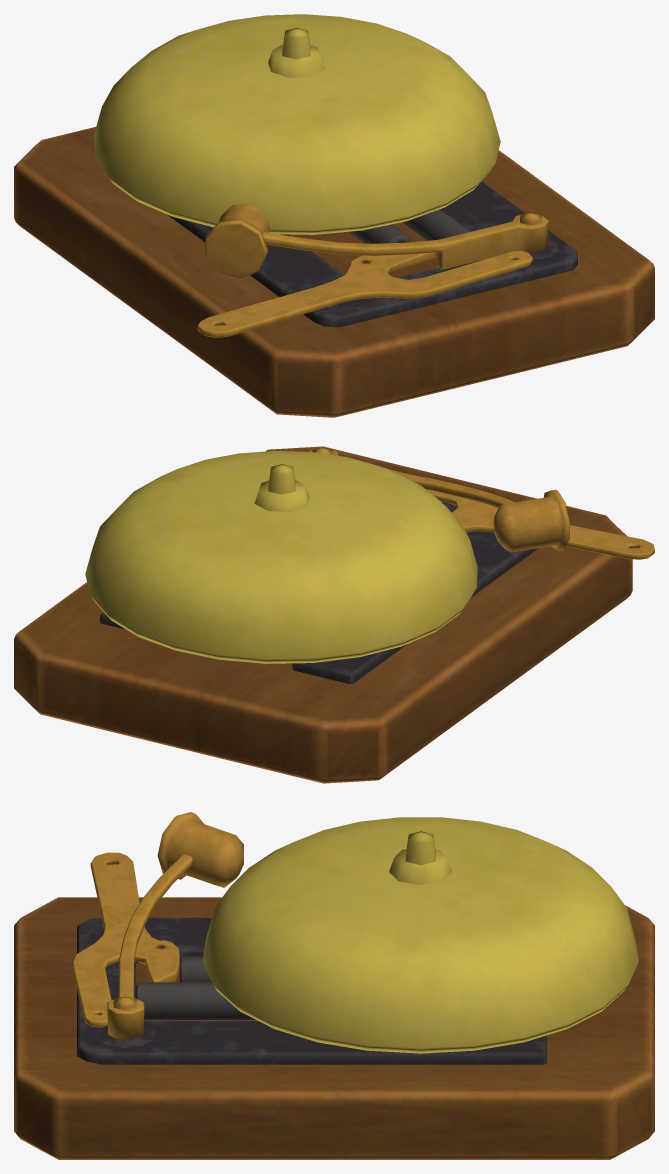
Rendered from FtrGong.glb.
3 renders of one model, top to bottom at view 1: azimuth 30°, elevation 25°; view 2: azimuth 150°, elevation 25°; view 3: azimuth 270°, elevation 25°, orthographic. The views are drawn at different scales.
Visible parts, largest first — view 1: gong__mBody; view 2: gong__mBody; view 3: gong__mBody.
Part boxes in pixels (x1,y1,x2,y2): gong__mBody: (14, 14, 654, 417); gong__mBody: (14, 446, 654, 783); gong__mBody: (14, 812, 654, 1159).
Bounding box in the file's own units: 5.51 × 2.65 × 6.66.
Materials: 1 (1 with a texture image).
